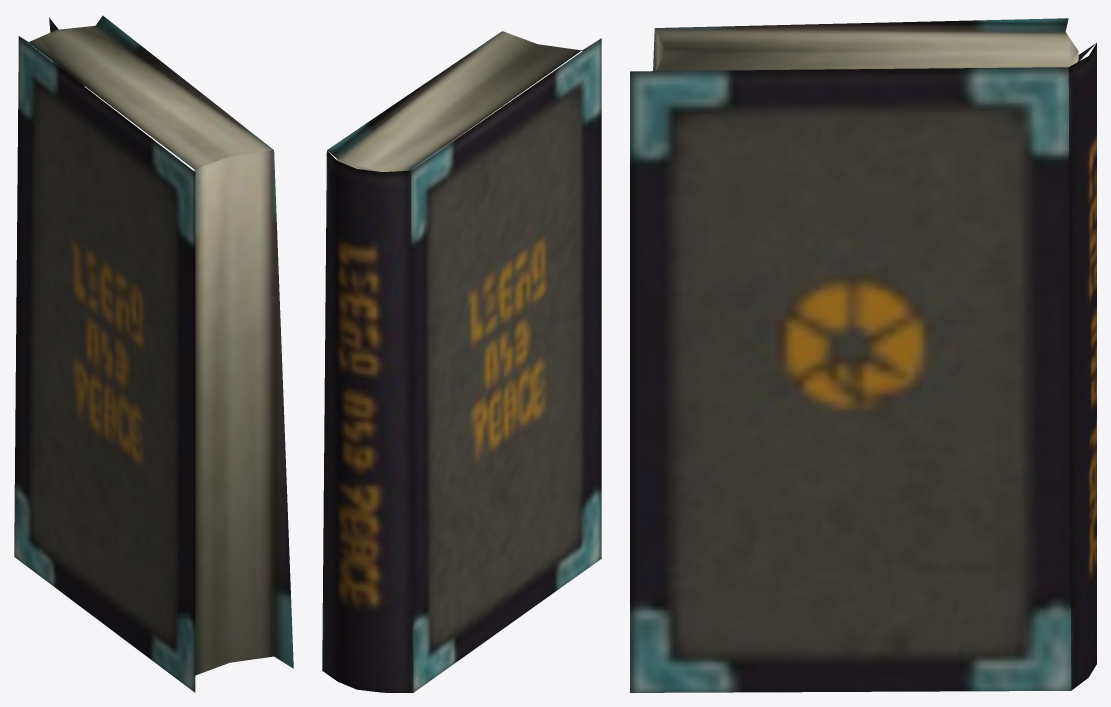
The model's file is standardBookV.glb.
The picture shows the model from 3 angles, left to right: view 1: azimuth 30°, elevation 25°; view 2: azimuth 150°, elevation 25°; view 3: azimuth 270°, elevation 25°; orthographic projection. The views are drawn at different scales.
Parts seen in each view (by area): view 1: standardBookV; view 2: standardBookV; view 3: standardBookV.
Boxes of the visible parts, x1,y1,x2,y2 form: standardBookV: [14, 15, 293, 692]; standardBookV: [322, 31, 601, 692]; standardBookV: [630, 18, 1096, 692].
Bounding box in the file's own units: 0.0735 × 0.3713 × 0.2527.
1 material, 1 textured.
